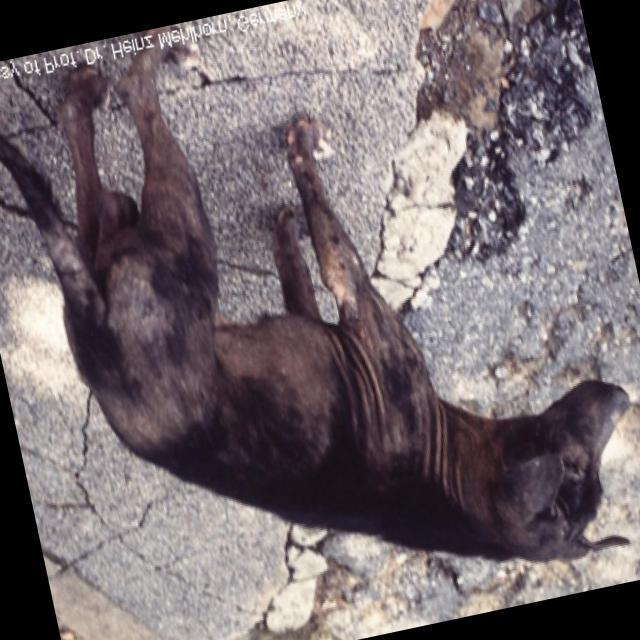allergic dermatitis: (105, 252, 199, 448), (217, 324, 340, 455)
